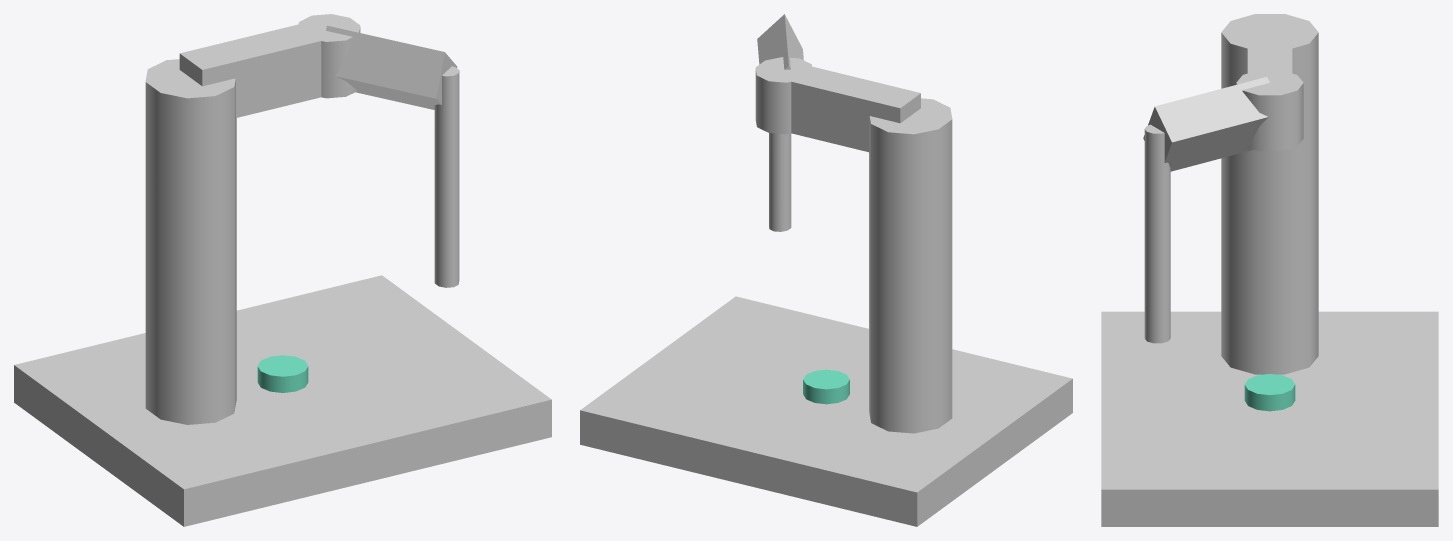
3 renders of one model, left to right at view 1: azimuth 30°, elevation 25°; view 2: azimuth 150°, elevation 25°; view 3: azimuth 270°, elevation 25°, orthographic. The views are drawn at different scales.
Visible parts, largest first — view 1: base_frame_1, base_column_2, upper_arm_3, forearm_5, tool_axis_6, shaft_4, visualJoint; view 2: base_frame_1, base_column_2, upper_arm_3, shaft_4, tool_axis_6, forearm_5, visualJoint; view 3: base_frame_1, base_column_2, forearm_5, tool_axis_6, shaft_4, upper_arm_3, visualJoint.
Part boxes in pixels (x1=…): base_frame_1: x1=14, y1=275, x2=551, y2=526; base_column_2: x1=145, y1=59, x2=236, y2=424; upper_arm_3: x1=179, y1=20, x2=339, y2=117; forearm_5: x1=326, y1=25, x2=457, y2=109; tool_axis_6: x1=434, y1=66, x2=459, y2=287; shaft_4: x1=298, y1=14, x2=360, y2=98; visualJoint: x1=257, y1=355, x2=308, y2=392; base_frame_1: x1=580, y1=296, x2=1072, y2=526; base_column_2: x1=869, y1=98, x2=952, y2=433; upper_arm_3: x1=774, y1=62, x2=920, y2=152; shaft_4: x1=755, y1=57, x2=811, y2=134; tool_axis_6: x1=769, y1=133, x2=791, y2=231; forearm_5: x1=757, y1=14, x2=803, y2=69; visualJoint: x1=803, y1=369, x2=849, y2=404; base_frame_1: x1=1101, y1=311, x2=1438, y2=526; base_column_2: x1=1221, y1=14, x2=1318, y2=374; forearm_5: x1=1143, y1=77, x2=1269, y2=171; tool_axis_6: x1=1144, y1=124, x2=1170, y2=343; shaft_4: x1=1236, y1=73, x2=1303, y2=151; upper_arm_3: x1=1247, y1=16, x2=1292, y2=82; visualJoint: x1=1244, y1=374, x2=1295, y2=411.
Bounding box in the file's own units: 2.5 × 2.85 × 2.
